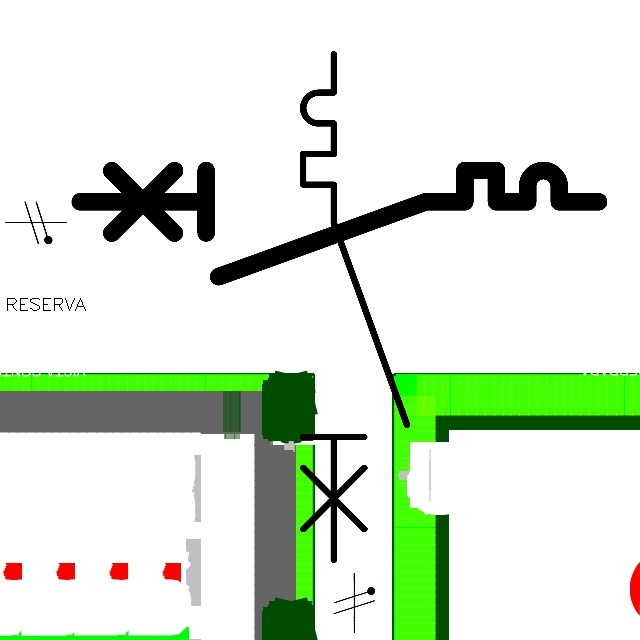interruptor_termomagnetico: (66, 157, 612, 290), (290, 41, 420, 573)
